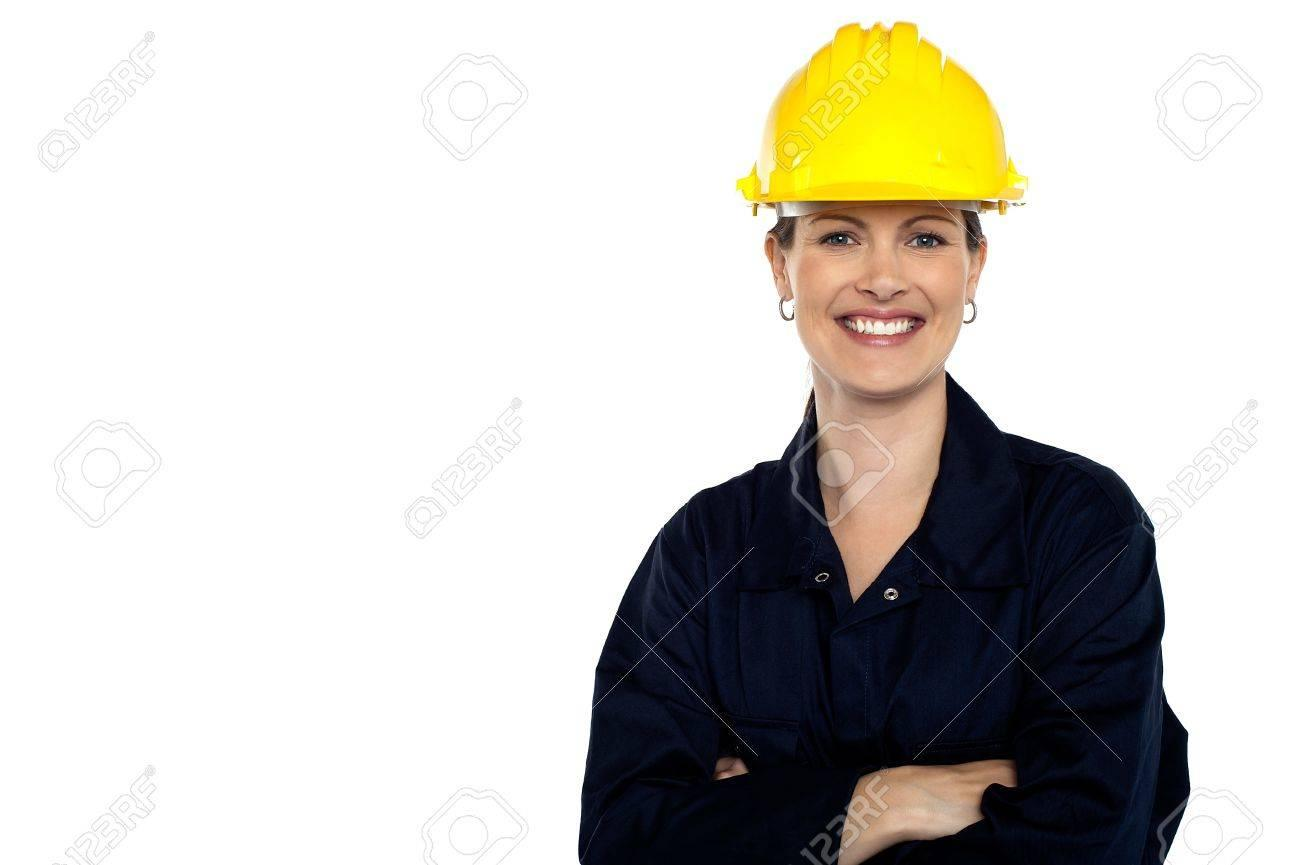helmet: (736, 25, 1029, 222)
